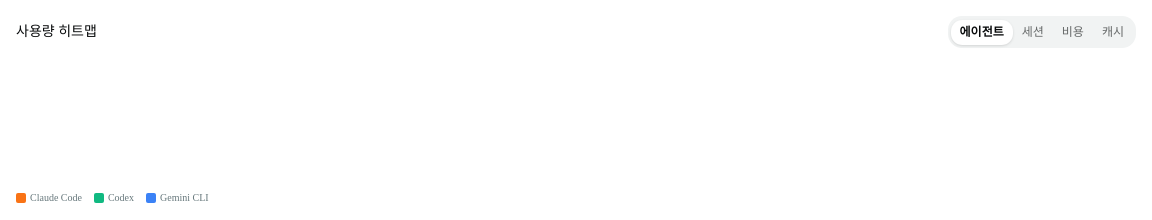
Test: UsageHeatmap › 세션 모드에서 에이전트 범례를 숨긴다
Click the tab "세션" at coordinates (1033, 32), box [1013,20,1053,44]
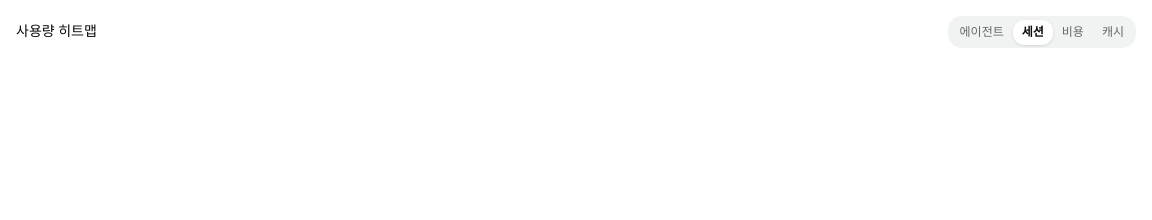
expect the text "Claude Code" is gone: met
